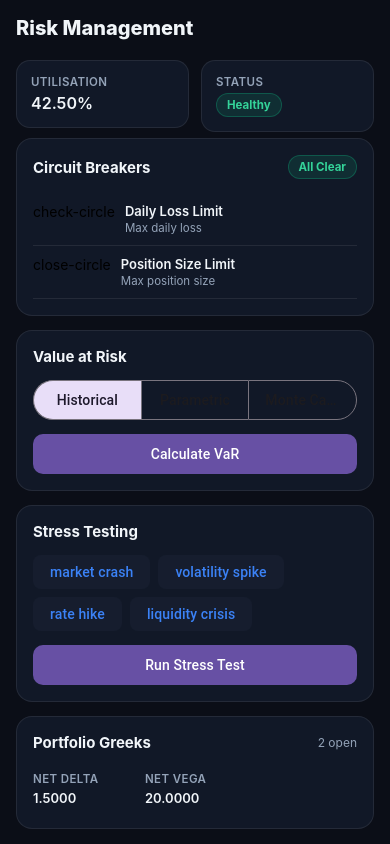
Value at Risk › defaults to the historical method
The image size is (390, 844).
Expected: the text "Circuit Breakers" is shown, [33,158,150,176]
Click the button "Calculate VaR".
click(195, 454)  # box [33,434,357,474]
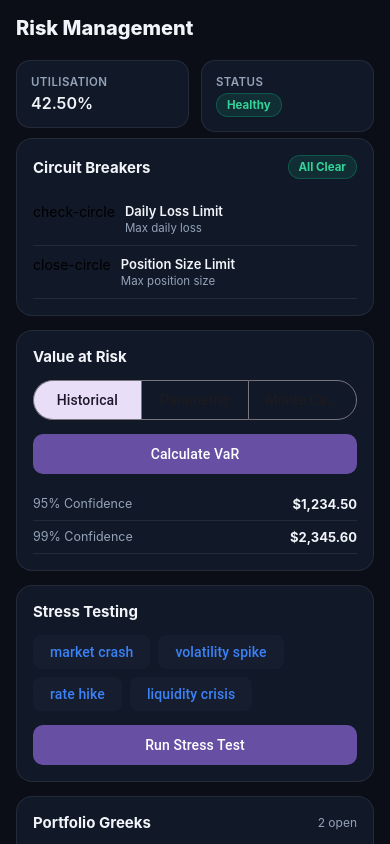
Expected: the text "95% confidence" is shown, [33,496,132,512]
Expected: the text "$1,234.50" is shown, [292,496,357,512]
Expected: the text "99% confidence" is shown, [33,529,133,545]
